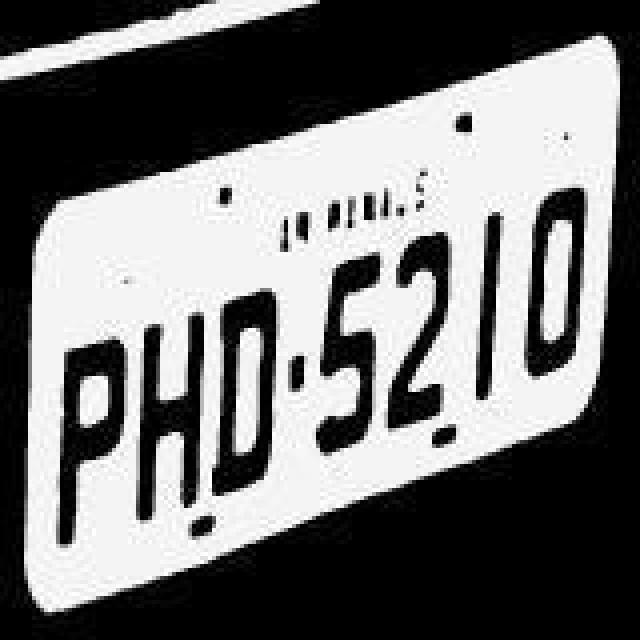1: (466, 180, 510, 412)
2: (386, 226, 454, 438)
5: (310, 250, 386, 462)
D: (214, 282, 290, 502)
H: (130, 284, 206, 532)
O: (526, 158, 594, 394)
P: (54, 320, 130, 560)
